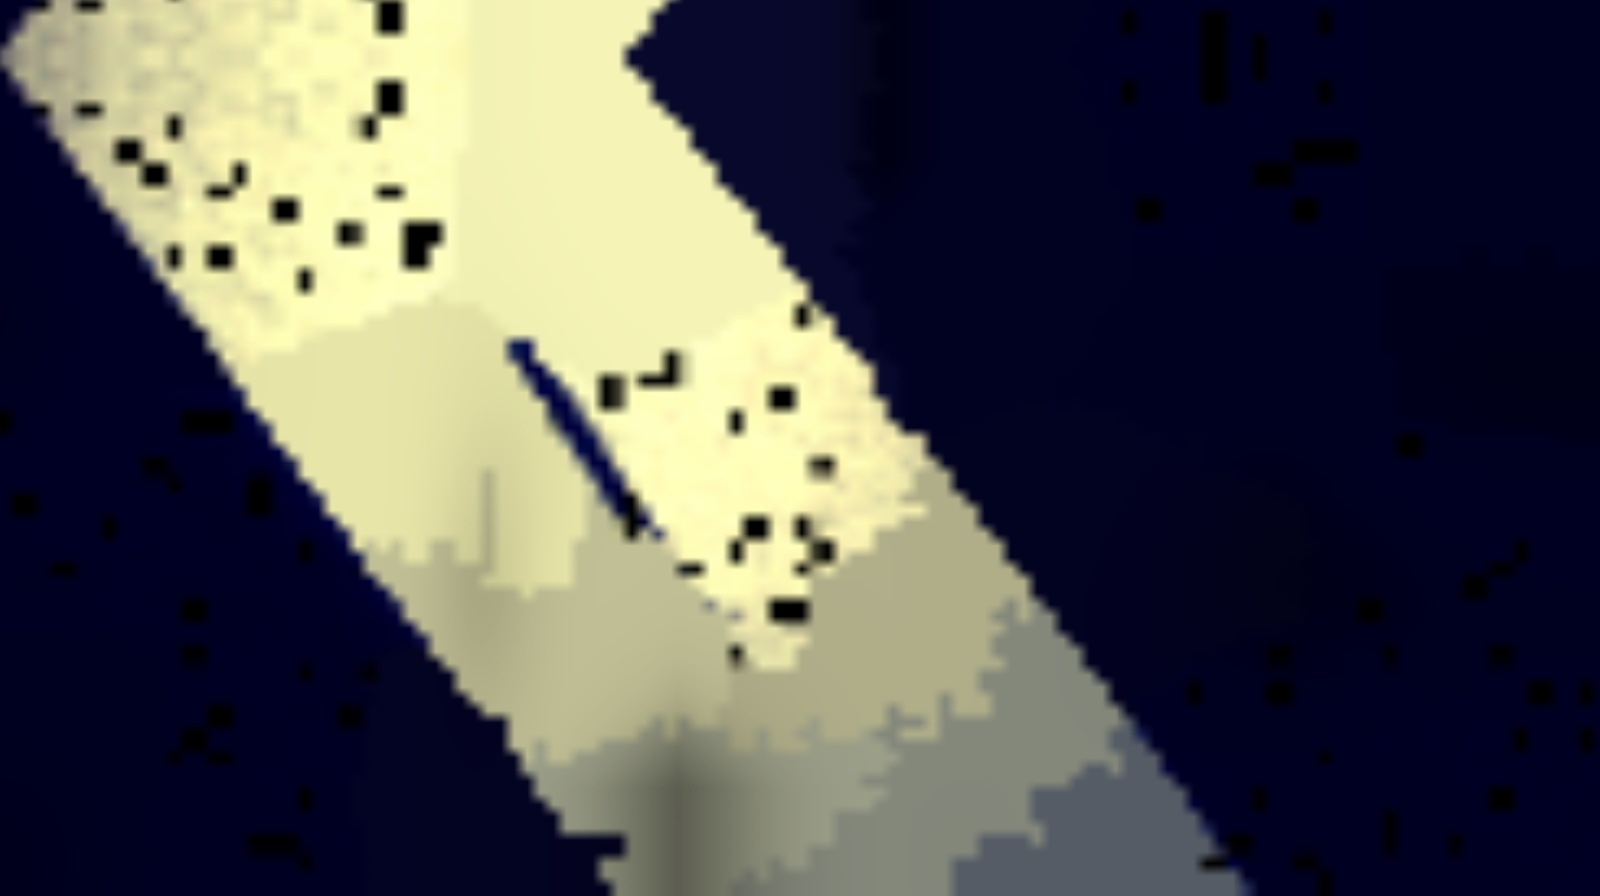S002: (476, 303, 763, 670)
